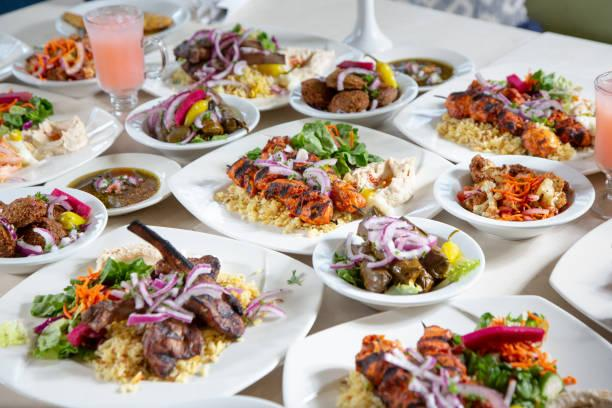Braised Crucian Carp: (1, 223, 316, 406), (168, 119, 447, 257), (281, 293, 612, 406), (436, 155, 596, 225), (125, 92, 258, 152)
